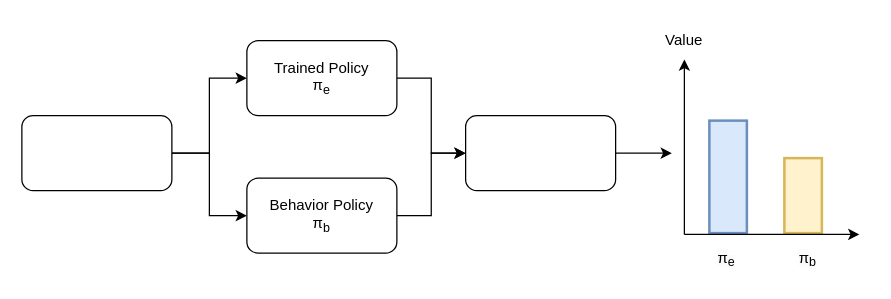
The diagram is 891 pixels wide and 299 high, and some of its shapes have lost their labels. Here are the shapes that lost their labels. From the top down, the box of each, then its label:
(21, 114, 172, 191): Offline Collected Dataset (under π b )
(464, 114, 616, 191): Off-policy evaluation OPE
